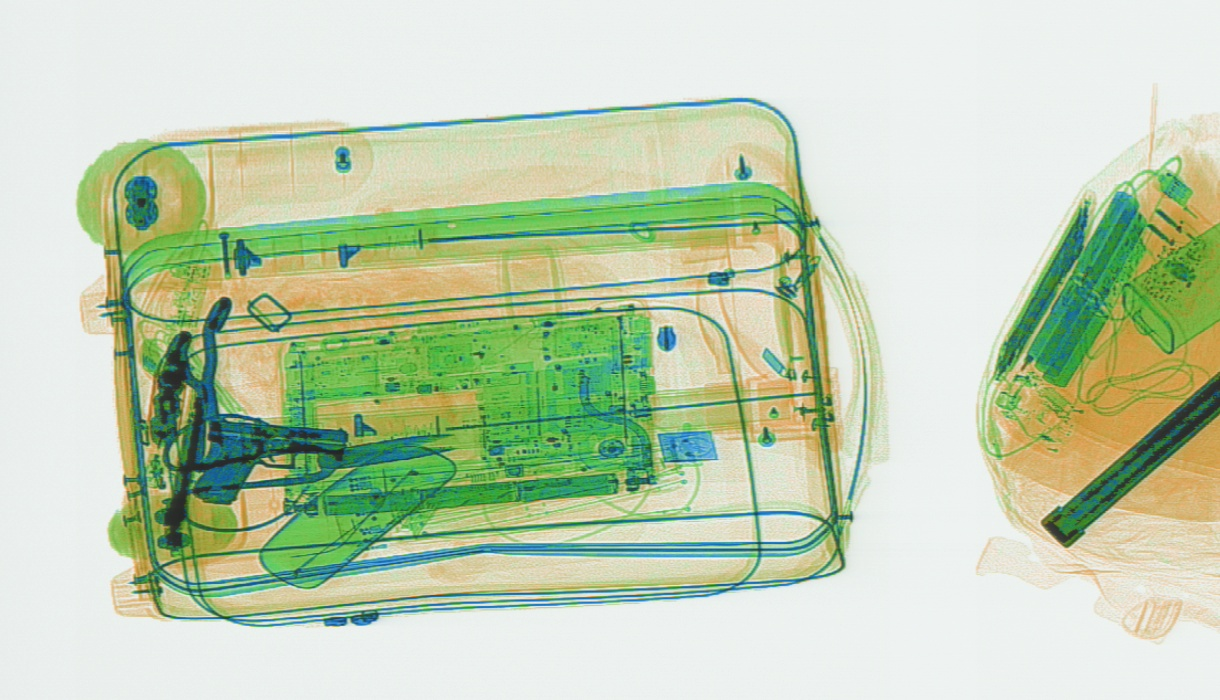lighter: (993, 304, 1057, 412)
powerbank: (1022, 189, 1147, 387)
scissors: (161, 411, 456, 531)
slingshot: (169, 293, 232, 465)
zippooil: (1117, 220, 1217, 352)
